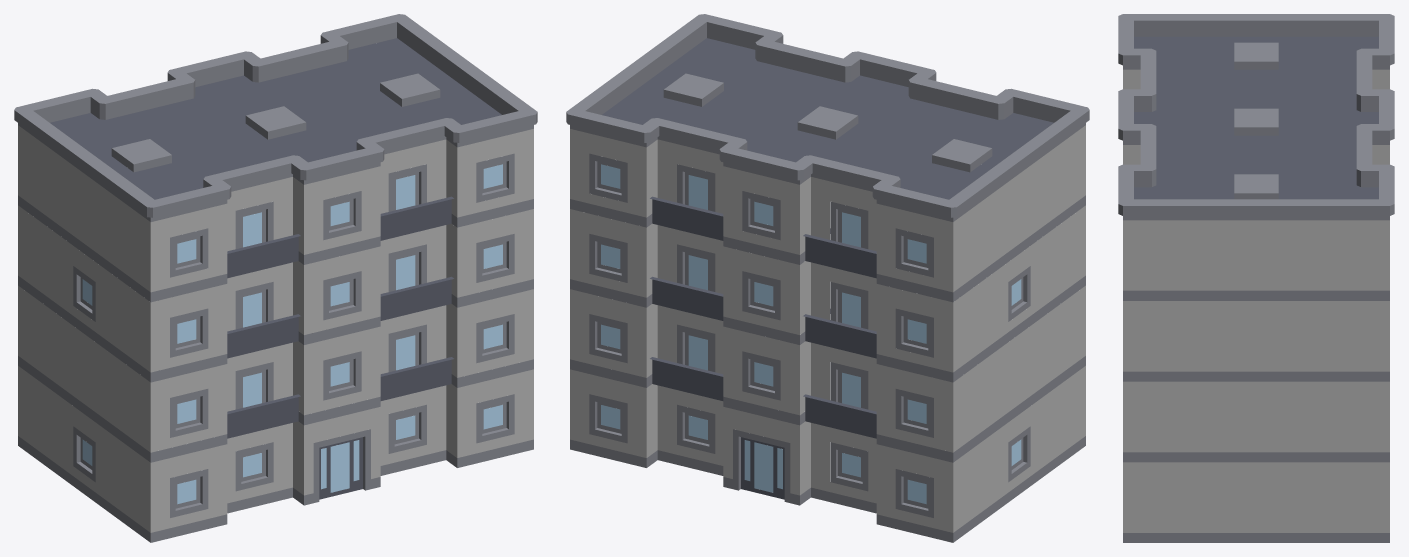
The picture shows the model from 3 angles, left to right: view 1: azimuth 30°, elevation 25°; view 2: azimuth 150°, elevation 25°; view 3: azimuth 270°, elevation 25°; orthographic projection.
Parts seen in each view (by area): view 1: large_buildingA; view 2: large_buildingA; view 3: large_buildingA.
Boxes of the visible parts, box(x1,y1,x2,y2) form: large_buildingA: box(14, 14, 537, 542); large_buildingA: box(566, 14, 1089, 542); large_buildingA: box(1118, 14, 1394, 542).
Size of the model in its own units: 2.04 by 1.68 by 1.24.
